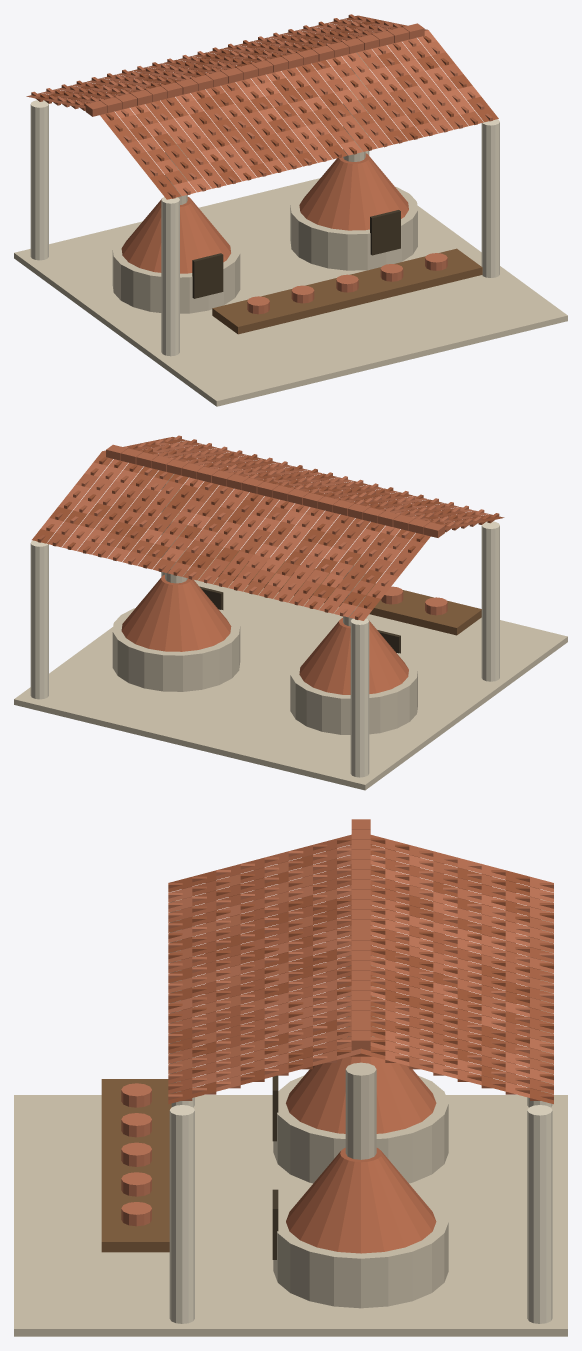
3 renders of one model, top to bottom at view 1: azimuth 30°, elevation 25°; view 2: azimuth 150°, elevation 25°; view 3: azimuth 270°, elevation 25°, orthographic. The views are drawn at different scales.
Parts seen in each view (by area): view 1: Bergfried – Steine, Säulen, Ziegel und Feuerstelle; view 2: Bergfried – Steine, Säulen, Ziegel und Feuerstelle; view 3: Bergfried – Steine, Säulen, Ziegel und Feuerstelle.
Boxes of the visible parts, bbox=[...] form: Bergfried – Steine, Säulen, Ziegel und Feuerstelle: bbox=[14, 14, 567, 406]; Bergfried – Steine, Säulen, Ziegel und Feuerstelle: bbox=[14, 435, 567, 790]; Bergfried – Steine, Säulen, Ziegel und Feuerstelle: bbox=[14, 819, 567, 1336].
Size of the model in its own units: 792 by 445 by 790.
